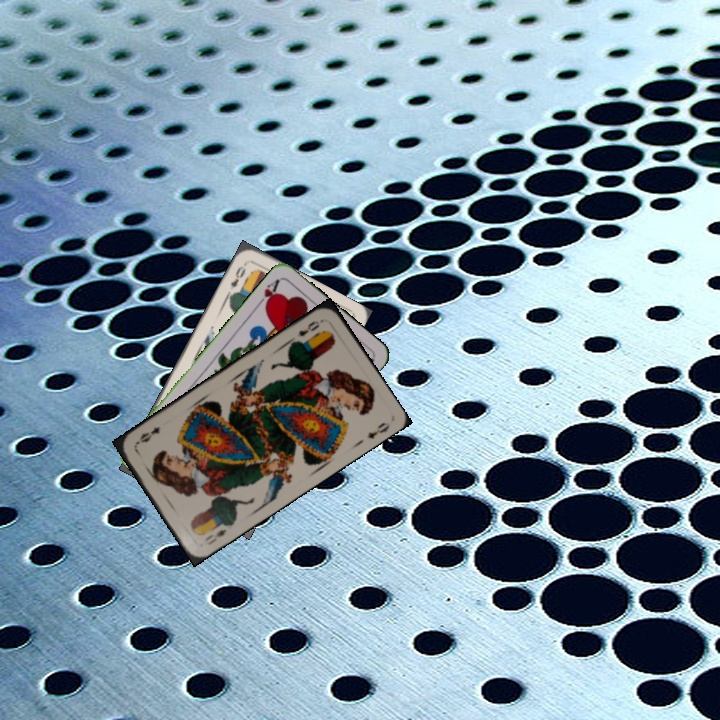EO: (290, 316, 325, 345), (226, 259, 249, 292), (201, 525, 229, 547)
HA: (252, 275, 282, 311)
